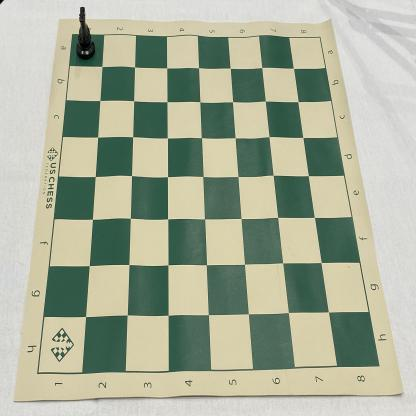black-knight: (75, 6, 95, 61)
